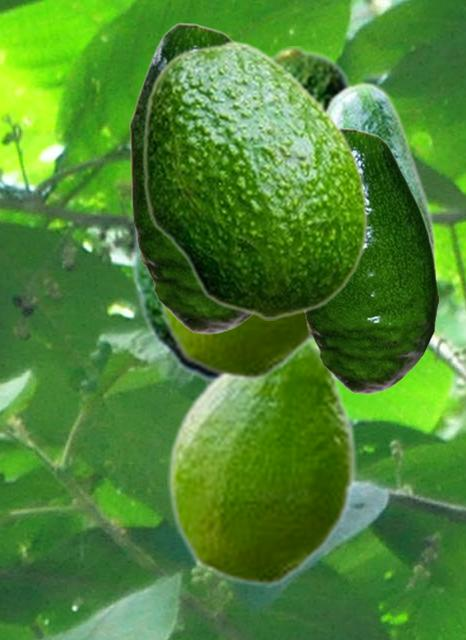avocado: (131, 46, 354, 383), (141, 39, 367, 319), (167, 341, 356, 586), (129, 22, 253, 333), (303, 127, 438, 393), (302, 81, 435, 319), (155, 302, 312, 380)
